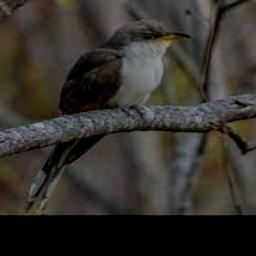Cuckoo: (21, 19, 193, 213)
